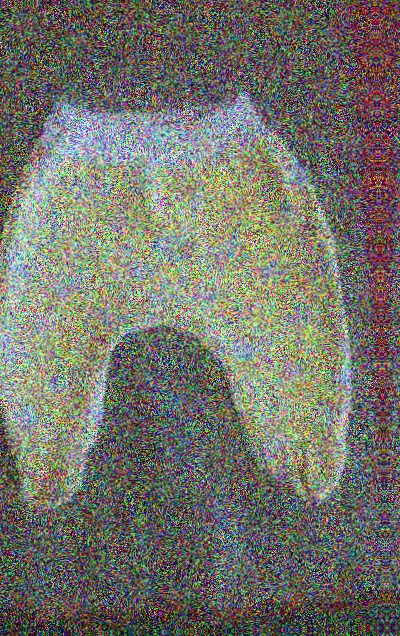Pants: (0, 86, 361, 530)
